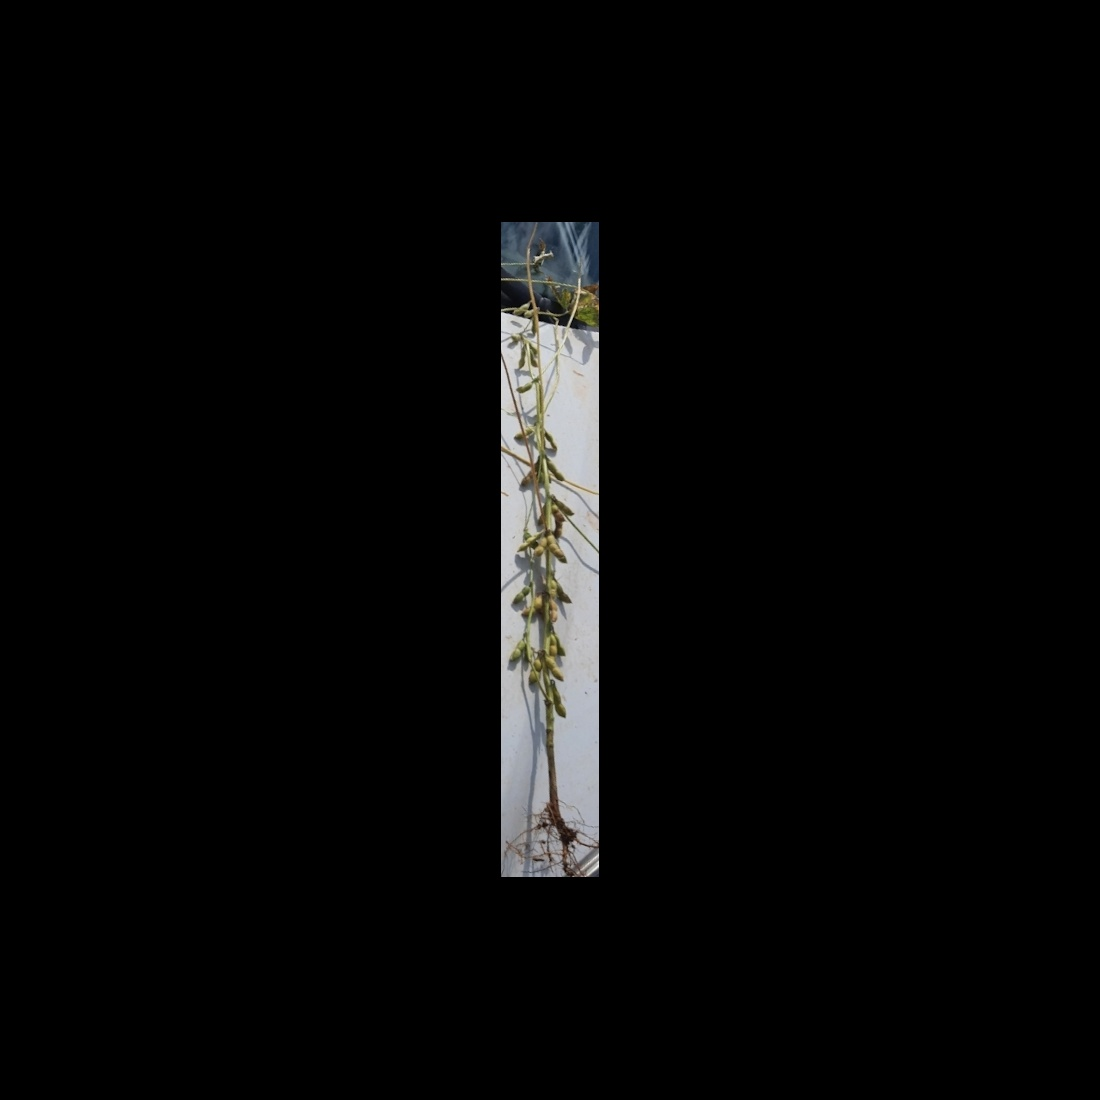pod: (515, 533, 542, 553), (552, 686, 568, 719), (522, 596, 543, 620), (508, 638, 527, 662), (547, 658, 564, 683), (512, 586, 532, 604), (529, 658, 541, 684), (513, 427, 534, 439), (513, 302, 531, 316), (517, 347, 527, 370), (546, 432, 558, 451), (535, 538, 547, 557), (548, 635, 557, 656), (550, 598, 557, 624), (515, 383, 532, 393)
soy: (507, 254, 593, 848)
